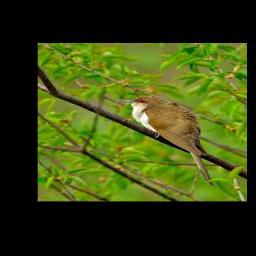Cuckoo: (120, 95, 214, 187)
